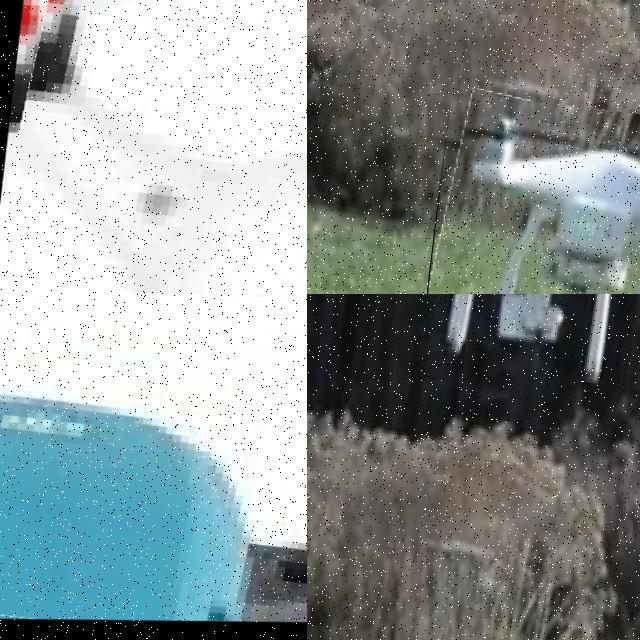drone: (0, 294, 307, 640), (0, 0, 307, 294), (415, 90, 640, 294)
